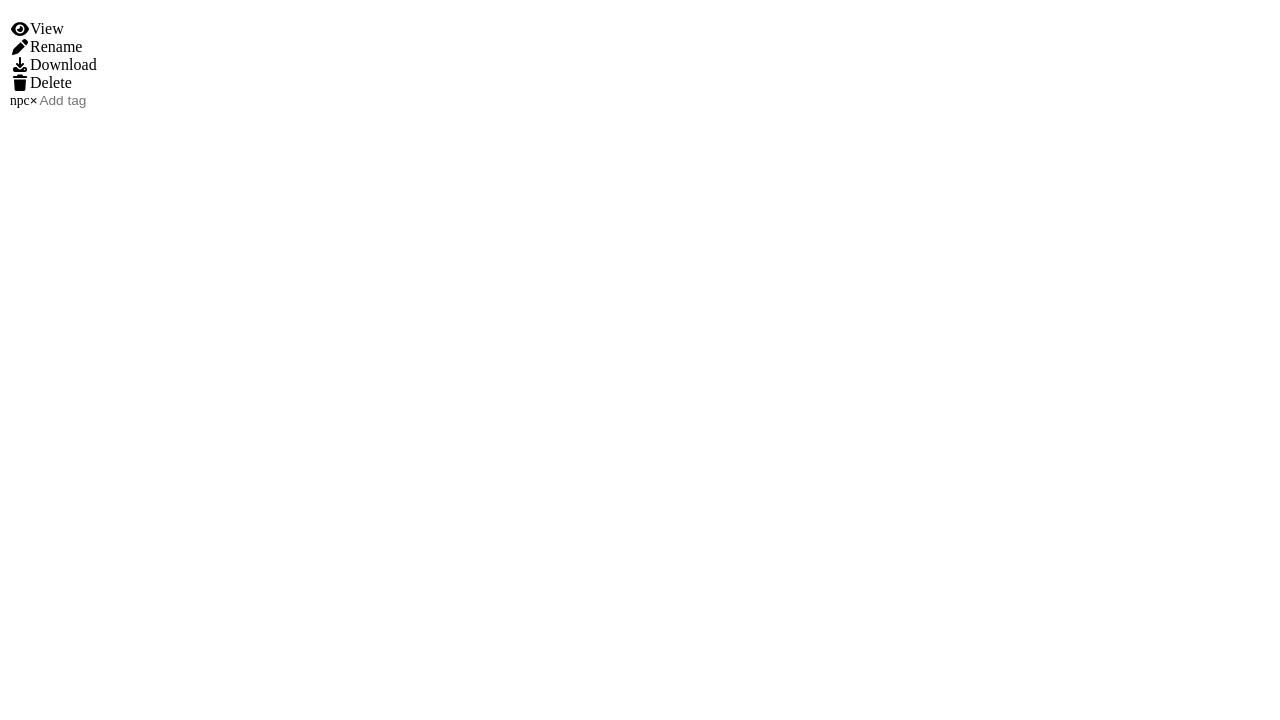
Test: EntryContextMenu › opens a delete confirmation popup and closes the menu when Delete is clicked
Click the button "Delete" at (114, 83), box [10,74,218,92]
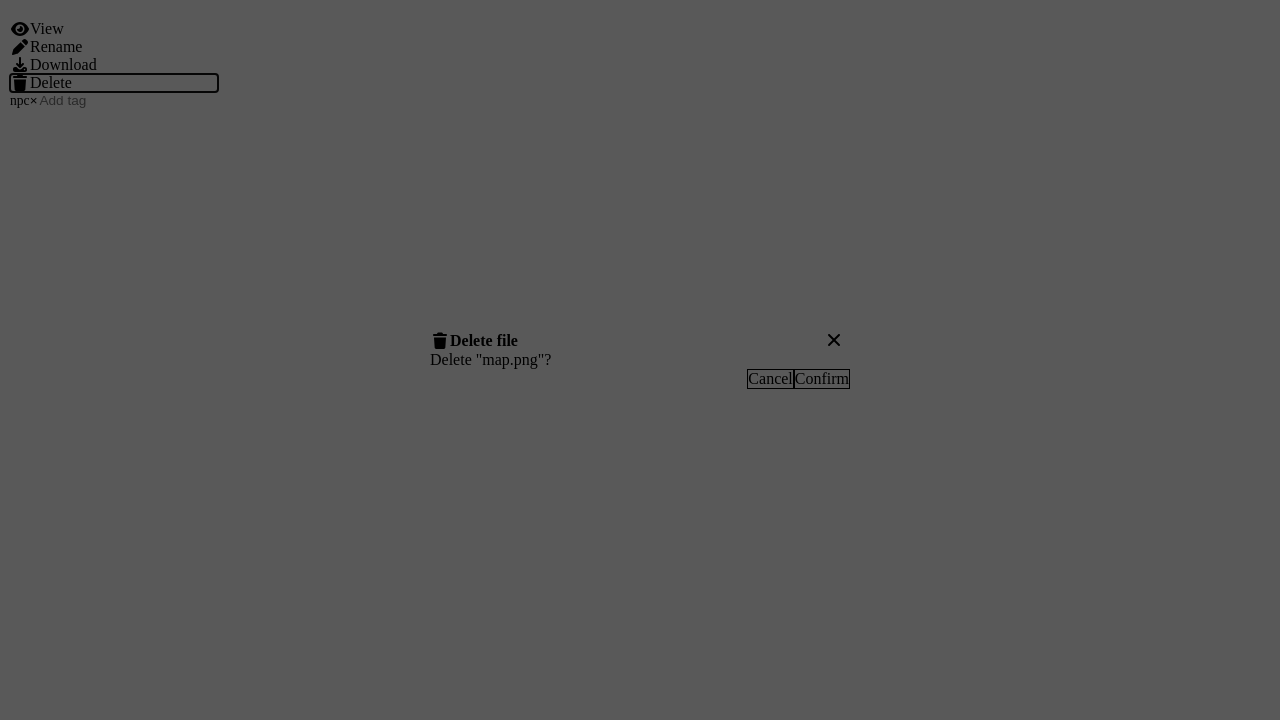
Check: the text "Delete \"map.png\"?" is shown, box [430,351,552,368]
